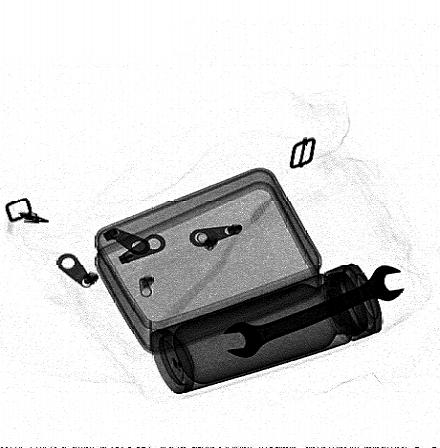Wrench: (221, 263, 405, 360)
